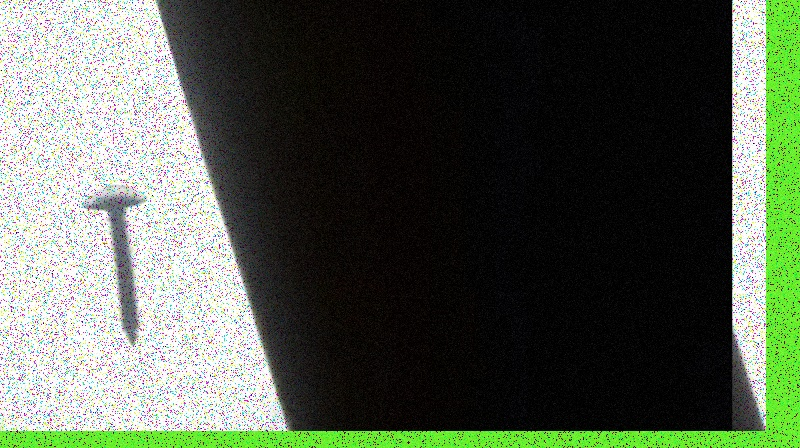S003: (77, 180, 150, 346)
